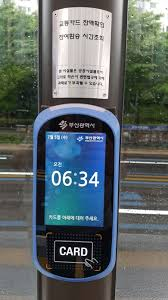terminal: (27, 101, 125, 286)
